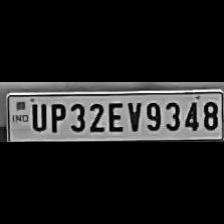2: (86, 99, 104, 133)
3: (66, 99, 86, 133), (162, 98, 180, 132)
4: (181, 98, 199, 132)
8: (198, 98, 218, 130)
9: (142, 98, 162, 132)
E: (105, 99, 125, 134)
P: (46, 99, 66, 133)
U: (28, 100, 46, 132)
V: (124, 99, 142, 134)
